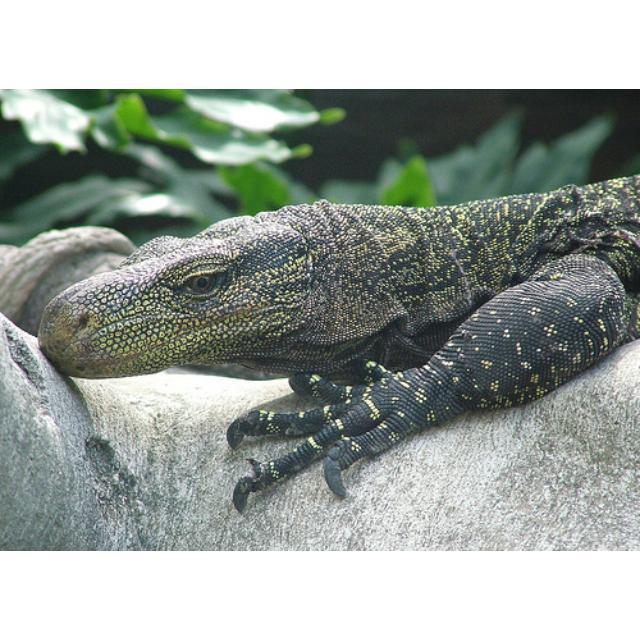KomodoDragon: (33, 171, 637, 517)
